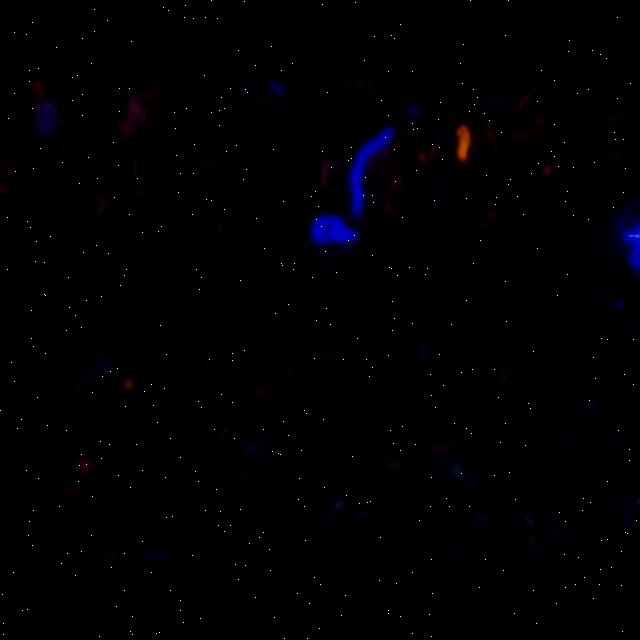Fragment: (454, 125, 472, 161)
